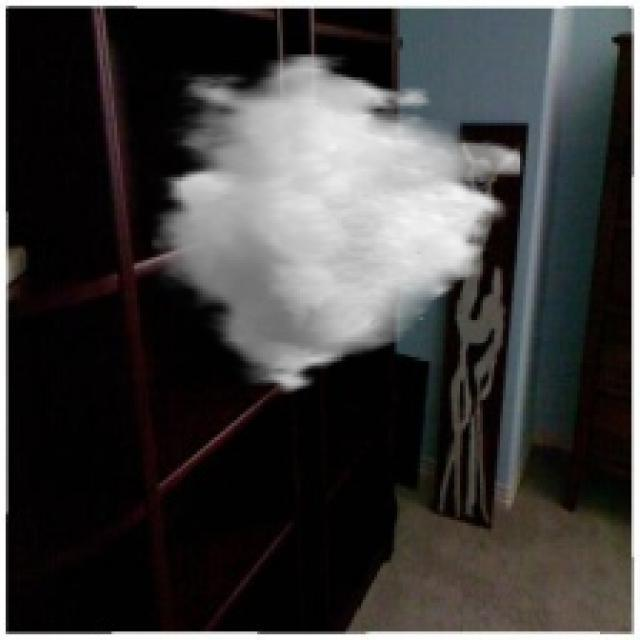Smoke: (151, 54, 523, 400)
